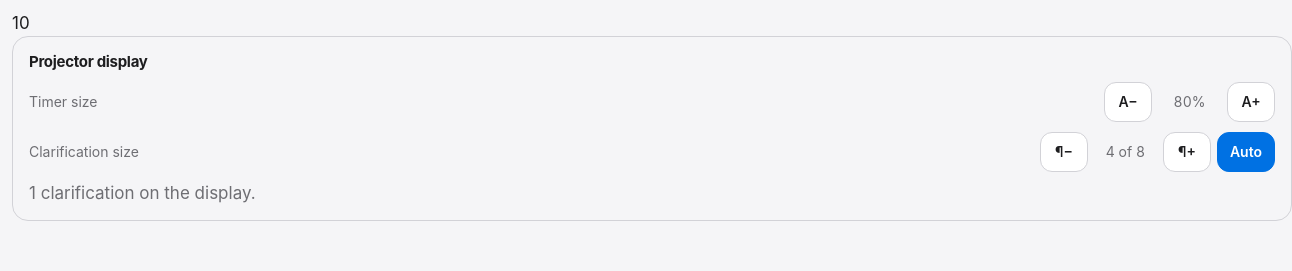
Scenario: proctor page: projector sizes › steps clarification size from what Auto showed on this browser's projector
Click the button named "Clarifications: bigger". click: click(1187, 152)
box: top-left (1163, 132), bottom-right (1211, 172)
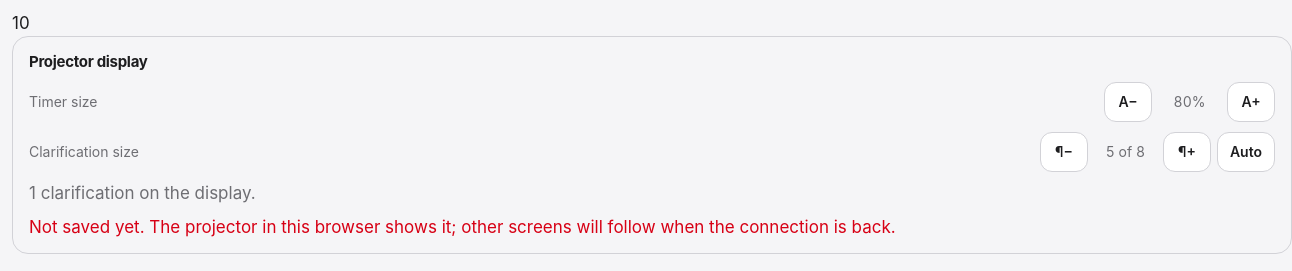
expect the text named "Clarification size now" reads "5 of 8": met, box top-left (1106, 143), bottom-right (1145, 160)
